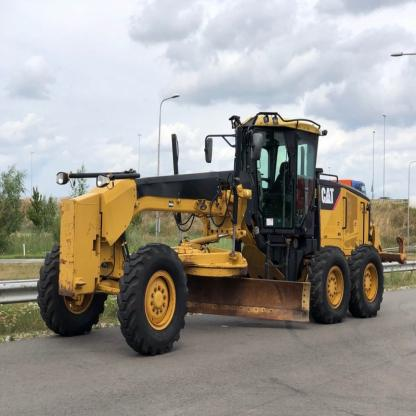bull_dozer/loader/grader: (18, 106, 390, 357)
